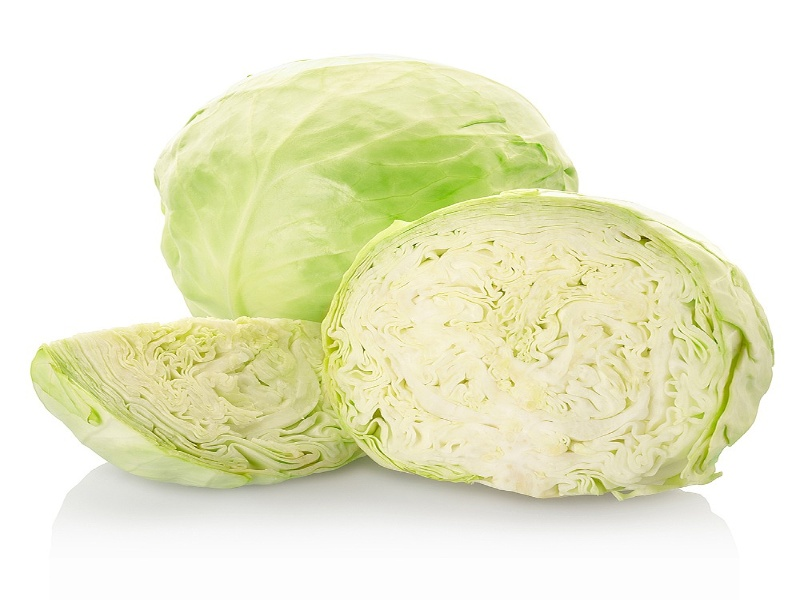Repollo: (307, 182, 789, 507), (164, 62, 601, 329), (27, 308, 403, 499)
